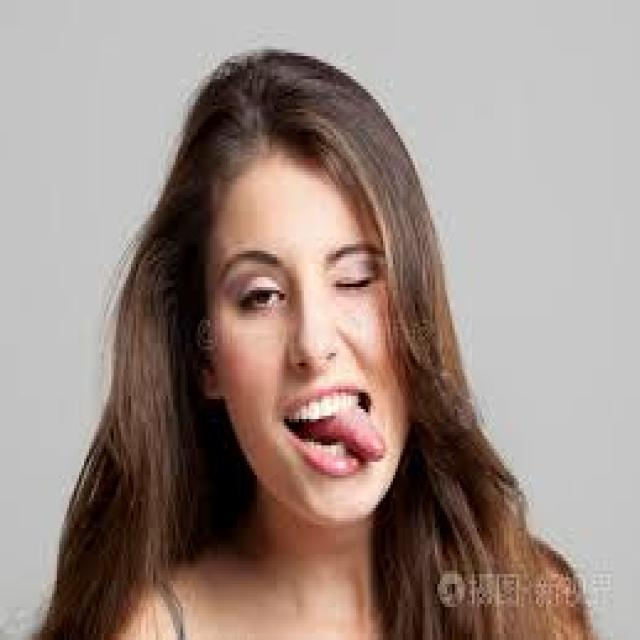tongue: (317, 410, 393, 470)
